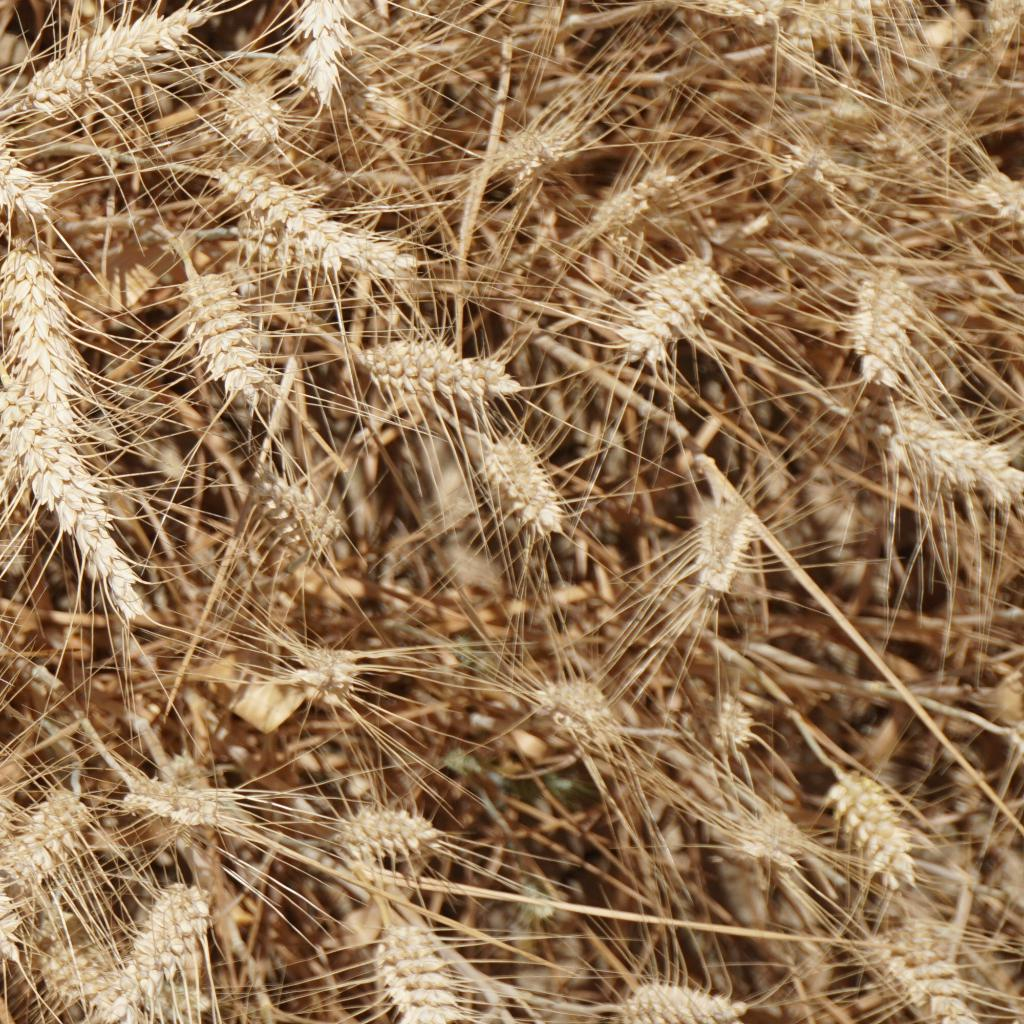0-0: (0, 376, 142, 617), (33, 0, 240, 110), (853, 391, 1024, 512), (95, 878, 215, 1024), (0, 254, 89, 416), (170, 270, 277, 404), (823, 769, 932, 894), (239, 219, 420, 284), (476, 425, 572, 546), (847, 258, 931, 393), (375, 923, 483, 1024), (215, 165, 341, 248), (625, 252, 719, 359), (0, 794, 89, 900), (364, 327, 477, 409), (685, 496, 767, 607), (0, 103, 65, 239), (203, 68, 288, 160), (297, 0, 362, 117), (248, 476, 331, 566), (28, 939, 122, 1018), (328, 804, 446, 866), (605, 972, 743, 1024), (719, 800, 812, 877), (536, 659, 614, 749), (277, 628, 364, 707), (0, 799, 37, 968), (123, 776, 243, 828), (590, 162, 673, 237), (789, 0, 912, 50), (867, 112, 935, 184), (463, 354, 537, 418), (968, 165, 1024, 239), (502, 126, 567, 186), (144, 974, 216, 1024), (702, 689, 755, 749), (686, 0, 782, 30), (785, 141, 841, 190), (977, 0, 1024, 37)
